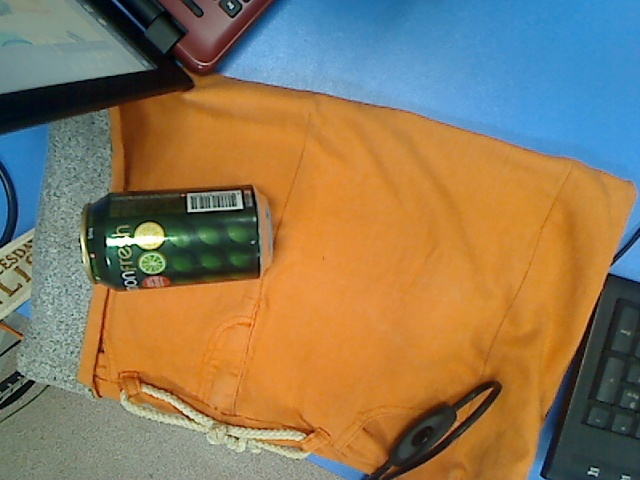can: (78, 184, 279, 294)
